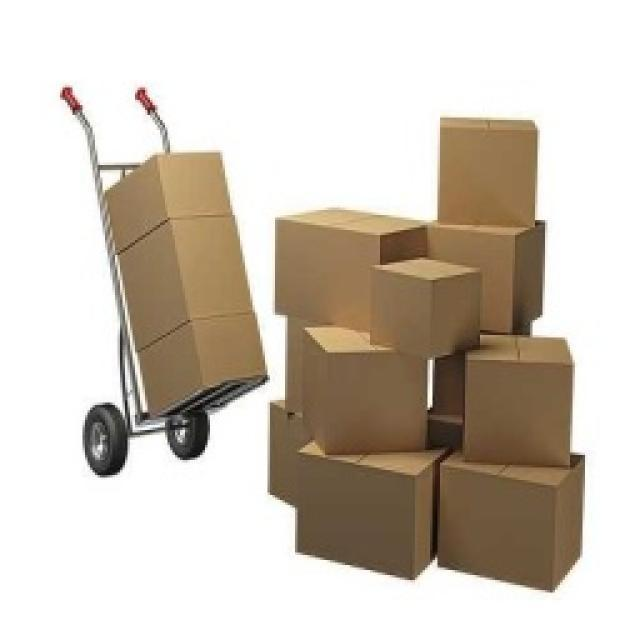box: (449, 443, 586, 596), (275, 206, 413, 340), (106, 221, 265, 335), (302, 448, 446, 566), (302, 336, 441, 454), (472, 332, 574, 462), (446, 97, 544, 228), (422, 214, 542, 320), (116, 324, 274, 398), (97, 149, 246, 221), (374, 262, 472, 358), (268, 398, 308, 491)
